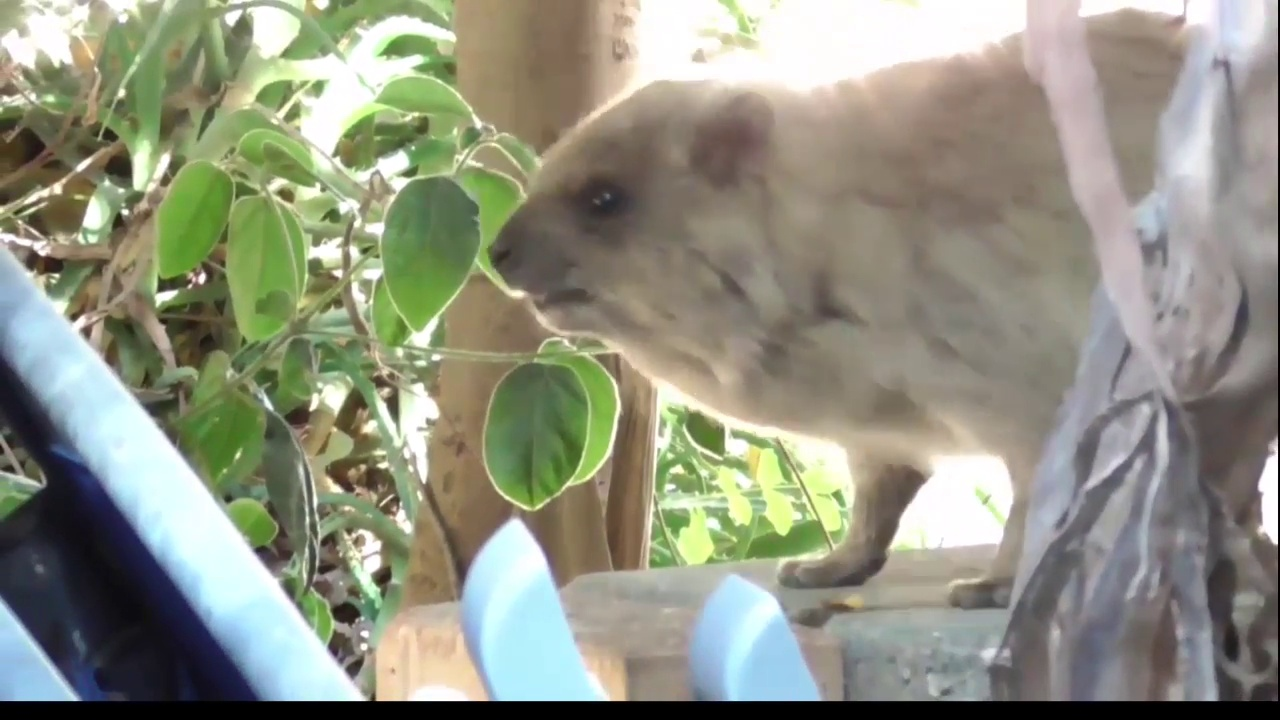Rock Hyrex: (491, 6, 1271, 622)
